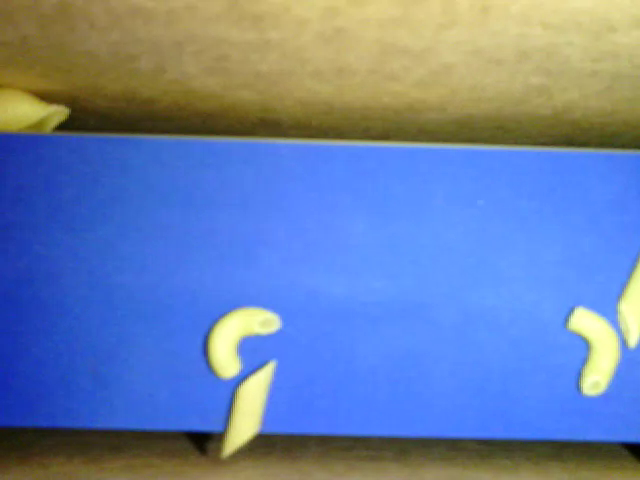elbow: (201, 303, 283, 378), (558, 301, 620, 394)
penne: (216, 359, 275, 459), (619, 254, 639, 352)
shell: (1, 90, 74, 134)
